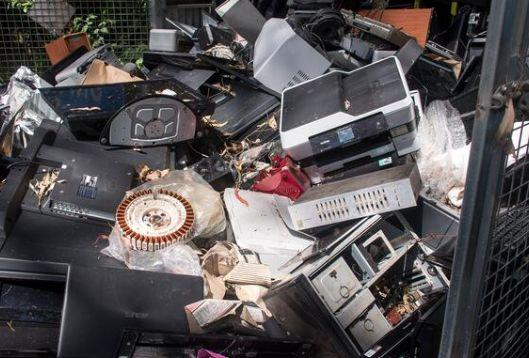electronic: (262, 210, 444, 358), (279, 55, 420, 165), (57, 257, 217, 353), (416, 139, 527, 258), (222, 188, 312, 266), (252, 20, 330, 94), (37, 82, 133, 139), (115, 187, 196, 252), (201, 79, 280, 139), (0, 279, 62, 326), (249, 155, 311, 200), (216, 1, 268, 43), (343, 9, 399, 42), (196, 51, 262, 79), (189, 151, 237, 189), (454, 35, 486, 90), (147, 61, 211, 88), (50, 203, 114, 225), (87, 45, 133, 75), (391, 38, 423, 77), (288, 0, 336, 19), (416, 232, 453, 256), (148, 28, 179, 52), (424, 40, 459, 61), (77, 174, 98, 199), (371, 48, 398, 63), (466, 12, 480, 37), (239, 248, 259, 264), (375, 254, 393, 270), (427, 266, 437, 276)
